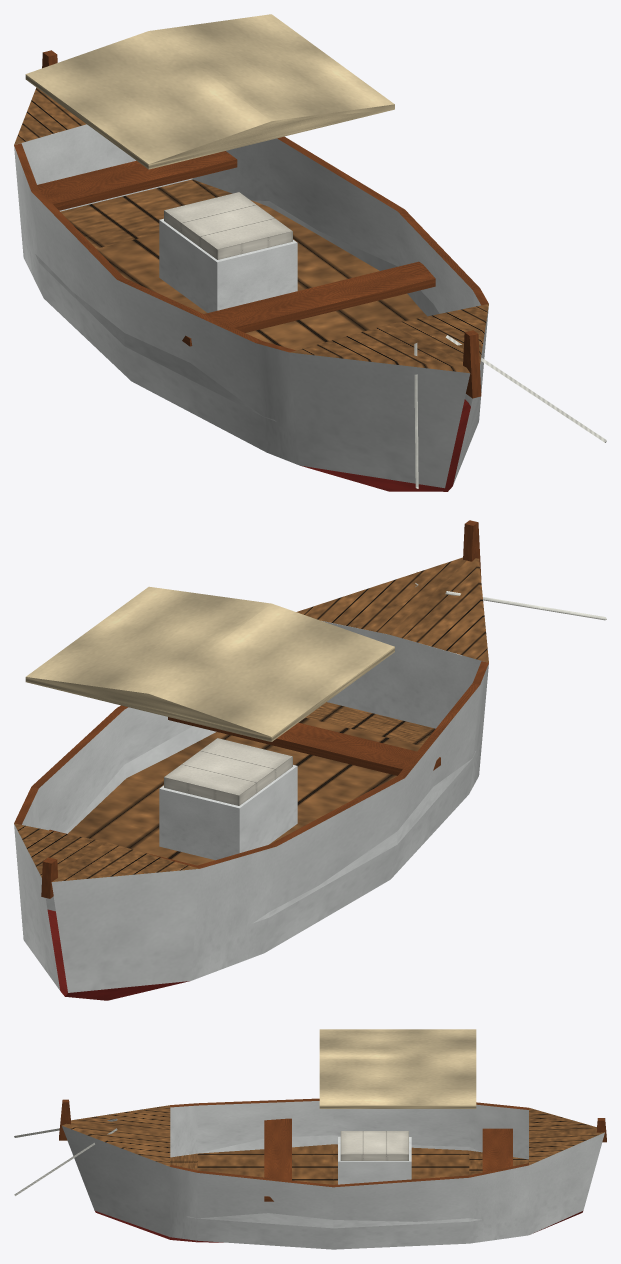
File: SM_Morin_Barca_Gozzo_FasciaVerde_Prua_LOD2.fbx
3 views of the same model, one above another, from view 1: azimuth 30°, elevation 25°; view 2: azimuth 150°, elevation 25°; view 3: azimuth 270°, elevation 25° (orthographic). The views are drawn at different scales.
Visible parts, largest first — view 1: SM_Morin_Barca_Gozzo_FasciaVerde_Prua_LOD2; view 2: SM_Morin_Barca_Gozzo_FasciaVerde_Prua_LOD2; view 3: SM_Morin_Barca_Gozzo_FasciaVerde_Prua_LOD2.
Boxes of the visible parts, x1,y1,x2,y2 form: SM_Morin_Barca_Gozzo_FasciaVerde_Prua_LOD2: (14, 14, 606, 491); SM_Morin_Barca_Gozzo_FasciaVerde_Prua_LOD2: (14, 520, 606, 1000); SM_Morin_Barca_Gozzo_FasciaVerde_Prua_LOD2: (14, 1029, 606, 1249).
Bounding box in the file's own units: 229 × 644 × 222.
1 material, 1 textured.
